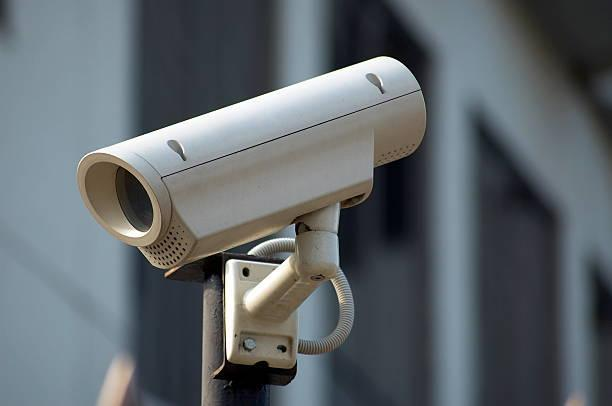camera: (46, 36, 462, 304)
